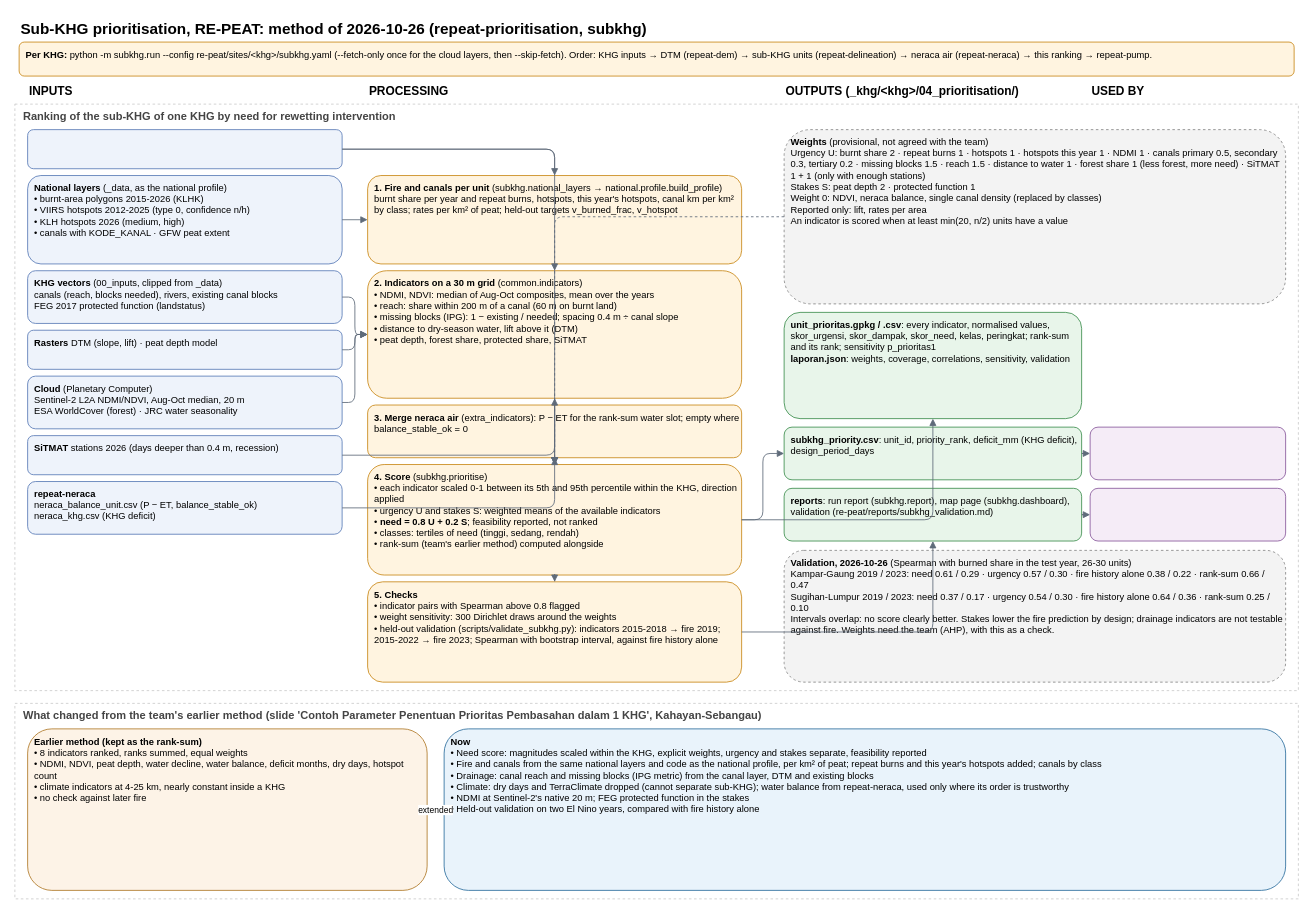
This 1313x914 diagram has some shape labels left out. Each missing label, with the centre of its shape:
"repeat-pump (contract C6): canal blocks and pumping order" goes at (x=1187, y=453).
"Sub-KHG units 02_delineation/subkhg_units.gpkg (repeat-delineation)" goes at (x=184, y=149).
"Team : choice of sub-KHG, weights (AHP session)" goes at (x=1187, y=514).
